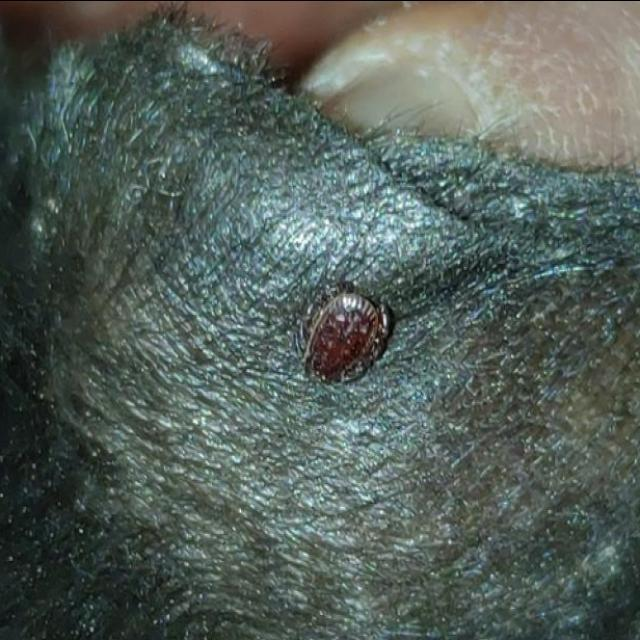Rhipicephalus Sanguineus-M: (300, 284, 395, 384)
